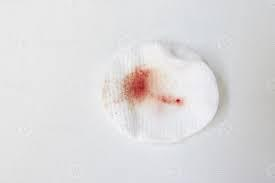cotton: (103, 42, 218, 142)
